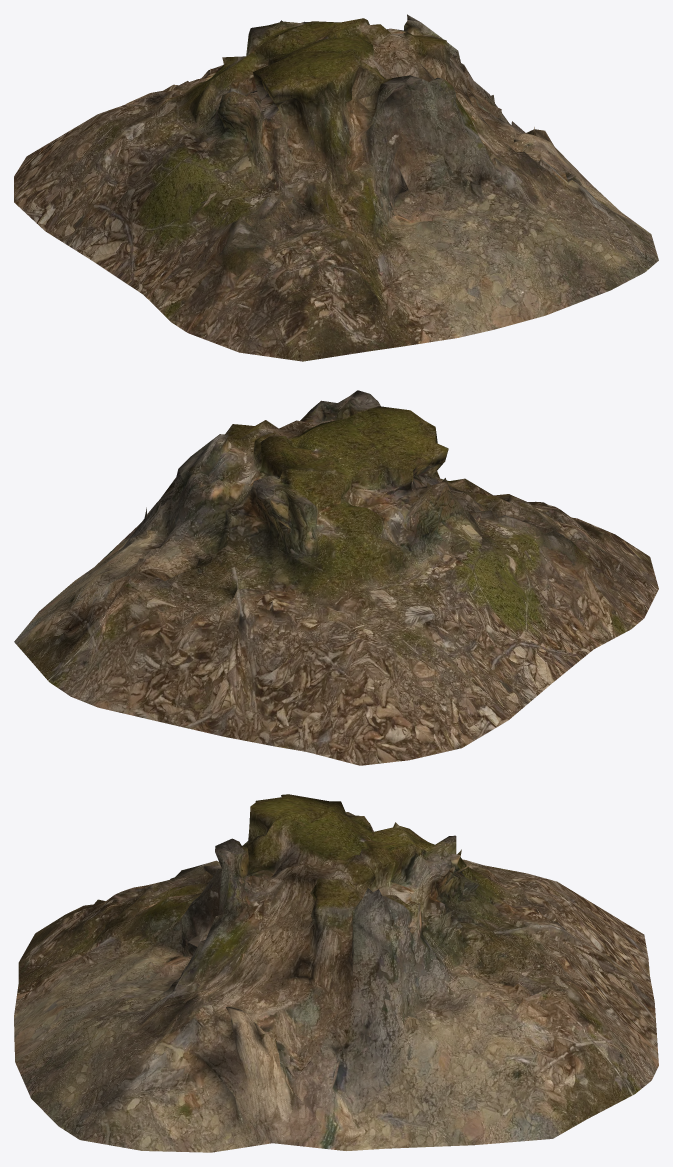
Rendered from stump.glb.
The picture shows the model from 3 angles, top to bottom: view 1: azimuth 30°, elevation 25°; view 2: azimuth 150°, elevation 25°; view 3: azimuth 270°, elevation 25°; orthographic projection. The views are drawn at different scales.
Parts seen in each view (by area): view 1: tree_stump_01; view 2: tree_stump_01; view 3: tree_stump_01.
Part boxes in pixels (x1=…): tree_stump_01: x1=14, y1=14, x2=658, y2=361; tree_stump_01: x1=14, y1=390, x2=658, y2=765; tree_stump_01: x1=14, y1=794, x2=658, y2=1152.
Size of the model in its own units: 1.43 by 0.57 by 1.59.
Materials: 1 (1 with a texture image).
